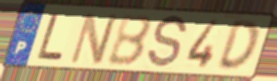4: (183, 18, 221, 71)
B: (105, 14, 153, 68)
D: (214, 19, 260, 74)
L: (35, 12, 67, 61)
N: (67, 11, 120, 66)
S: (145, 14, 189, 71)
